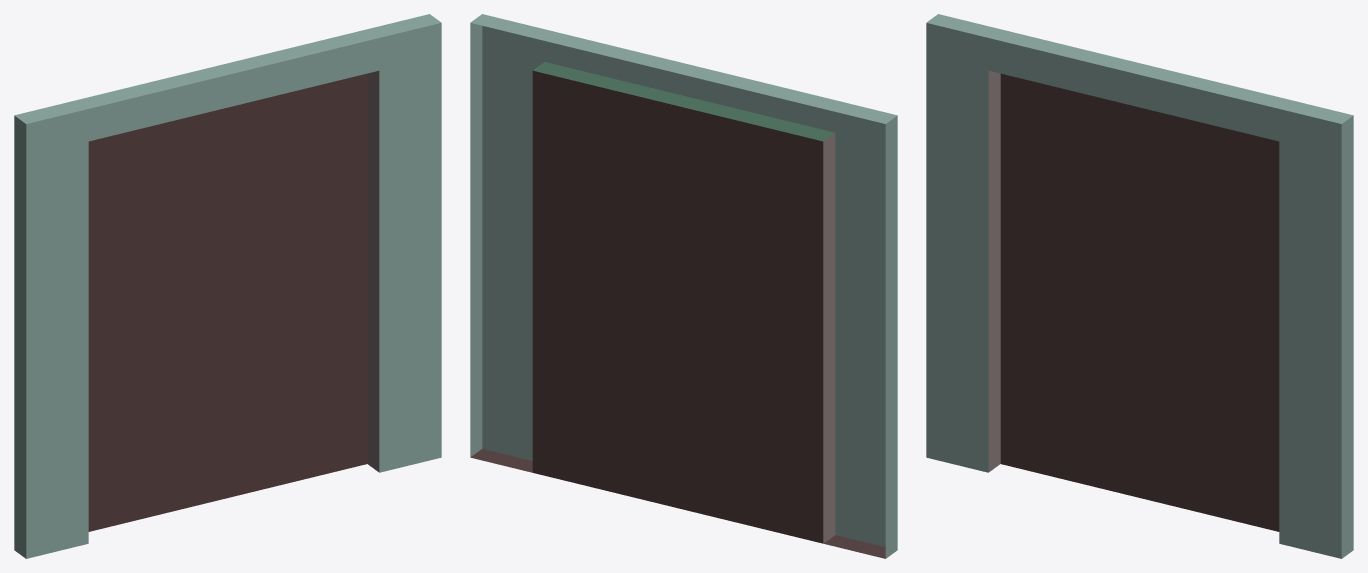
File: SM_Porte2x2_1.FBX
3 views of the same model, side by side, from view 1: azimuth 30°, elevation 25°; view 2: azimuth 150°, elevation 25°; view 3: azimuth 330°, elevation 25° (orthographic).
Parts seen in each view (by area): view 1: SM_Porte2x2_1; view 2: SM_Porte2x2_1; view 3: SM_Porte2x2_1.
Boxes of the visible parts, bbox=[...] form: SM_Porte2x2_1: bbox=[14, 14, 441, 558]; SM_Porte2x2_1: bbox=[470, 14, 897, 558]; SM_Porte2x2_1: bbox=[926, 14, 1353, 558].
Bounding box in the file's own units: 200 × 200 × 10.
